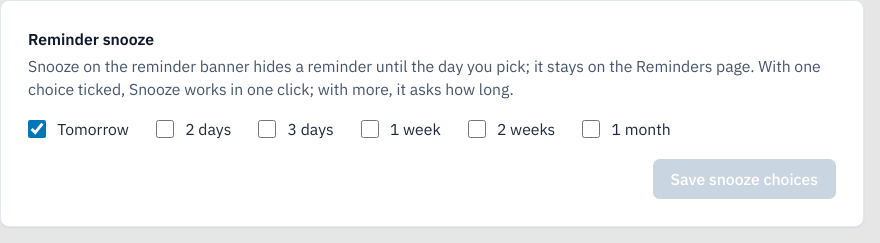
it: SnoozeSettingsCard › can't save until something changed
This screenshot has width=880, height=243.
Check: the button "Save snooze choices" is disabled, box x1=653 y1=158 x2=836 y2=199
Click the checkbox labelled "3 days" at point(267, 129), box x1=258 y1=120 x2=276 y2=138
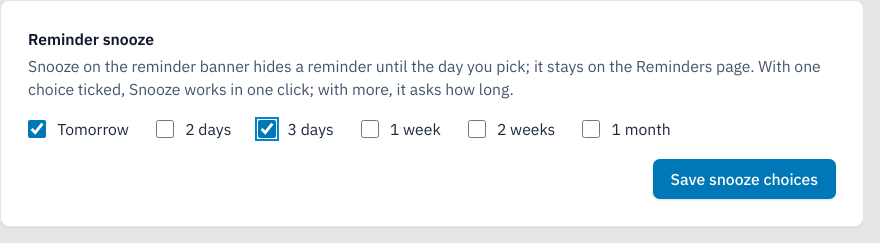
Check: the button "Save snooze choices" is enabled, box x1=653 y1=158 x2=836 y2=199
Click the checkbox labelled "3 days" at point(267, 129), box x1=258 y1=120 x2=276 y2=138
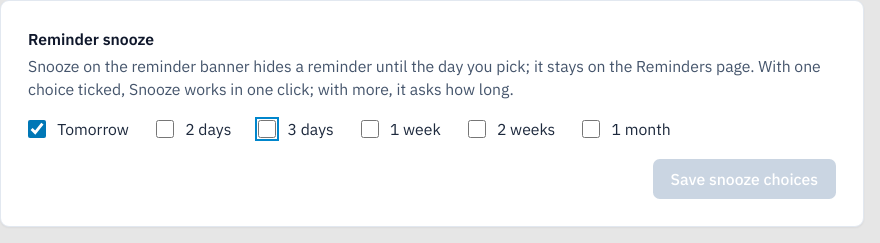
Check: the button "Save snooze choices" is disabled, box x1=653 y1=158 x2=836 y2=199
